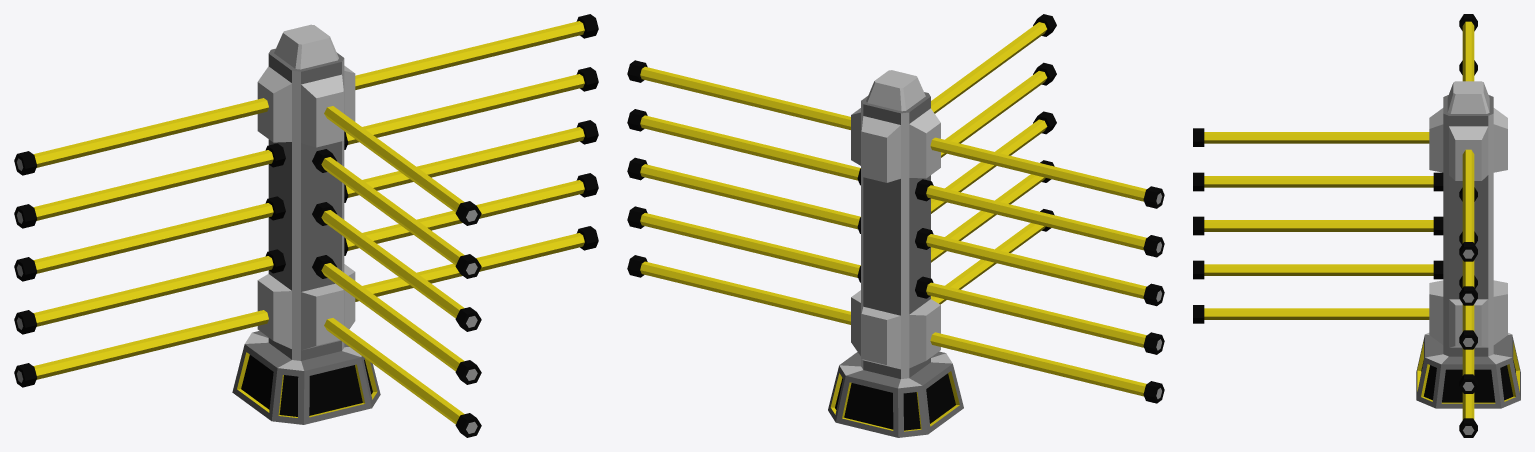
File: Wall3.fbx
The picture shows the model from 3 angles, left to right: view 1: azimuth 30°, elevation 25°; view 2: azimuth 150°, elevation 25°; view 3: azimuth 270°, elevation 25°; orthographic projection. The views are drawn at different scales.
Visible parts, largest first — view 1: Wall3; view 2: Wall3; view 3: Wall3.
Part boxes in pixels (bbox=[...]): Wall3: bbox=[14, 14, 598, 437]; Wall3: bbox=[627, 14, 1164, 437]; Wall3: bbox=[1193, 14, 1520, 437].
Bounding box in the file's own units: 227 × 136 × 135.
